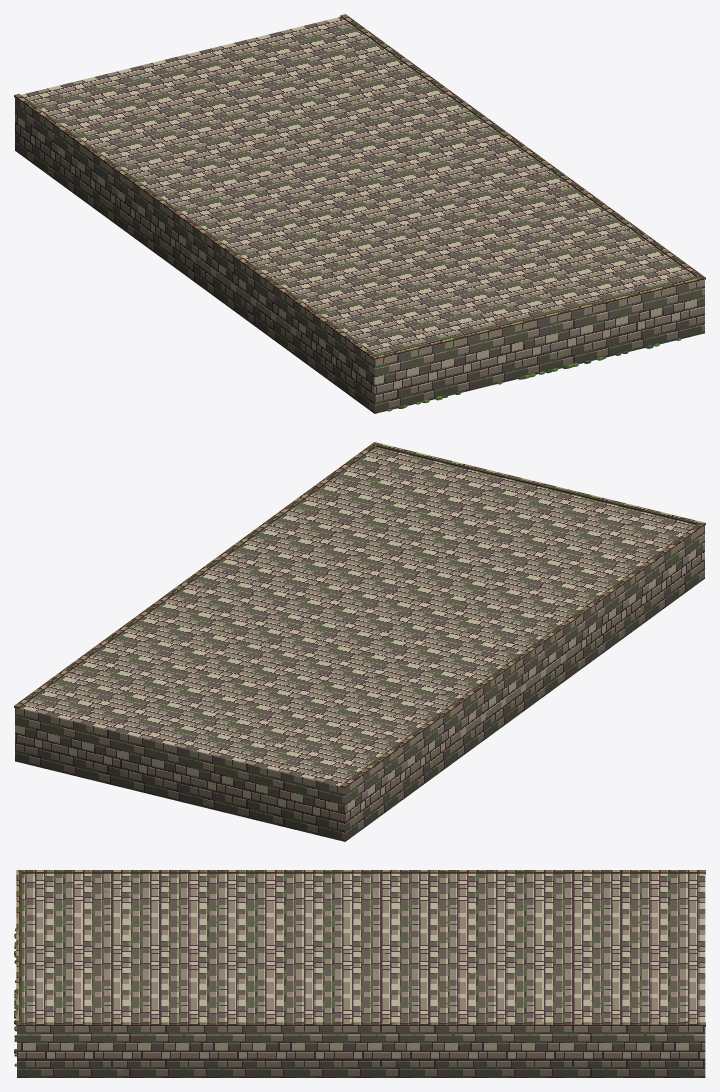
The model's file is scene_wall_w.glb.
3 views of the same model, one above another, from view 1: azimuth 30°, elevation 25°; view 2: azimuth 150°, elevation 25°; view 3: azimuth 270°, elevation 25° (orthographic). The views are drawn at different scales.
Visible parts, largest first — view 1: scene_wall_w; view 2: scene_wall_w; view 3: scene_wall_w.
Boxes of the visible parts, x1,y1,x2,y2 form: scene_wall_w: (14, 14, 705, 413); scene_wall_w: (14, 442, 705, 841); scene_wall_w: (14, 870, 705, 1077).
Size of the model in its own units: 22.9 by 3.77 by 43.24.
2 materials, 1 textured.
